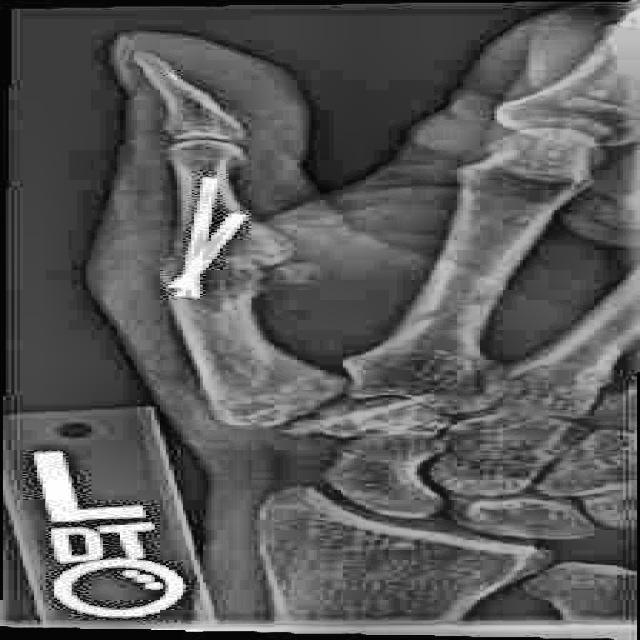fingers positive: (138, 211, 345, 305)
